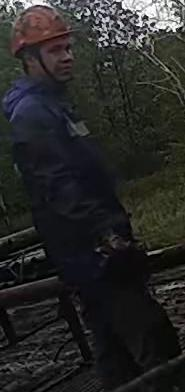gloves: (90, 224, 139, 282)
helmet: (9, 3, 79, 56)
vest: (10, 80, 134, 281)
